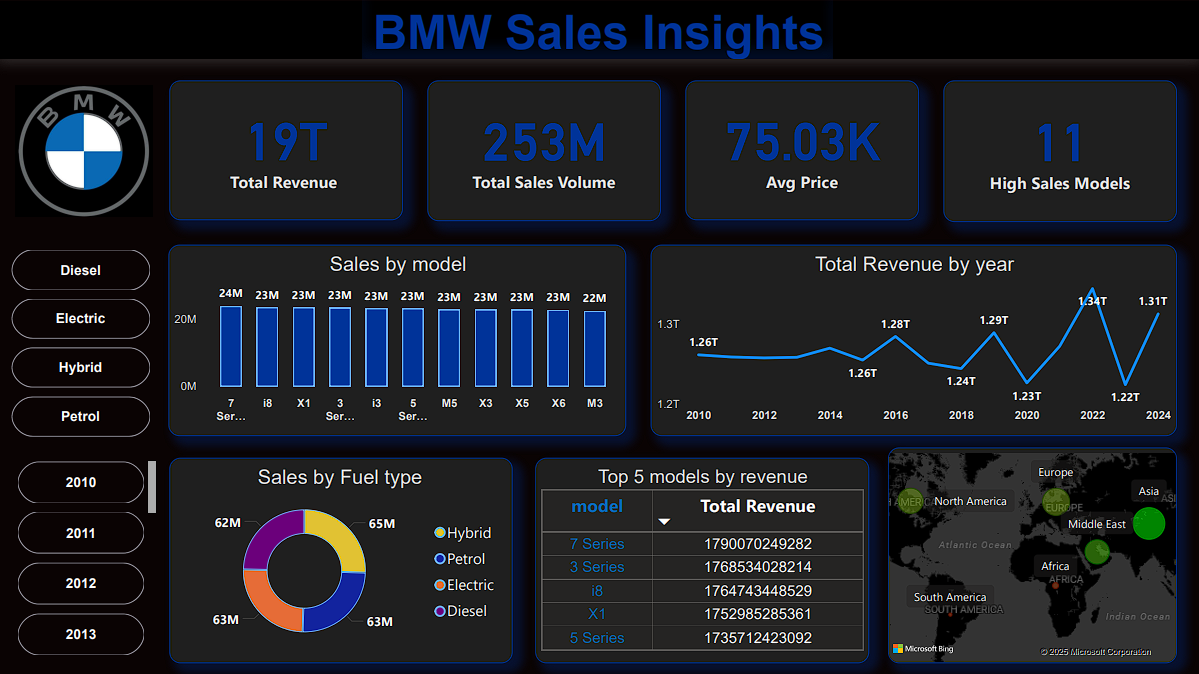

The dashboard page shown, as its layout file describes it:
{"tool":"powerbi","page":{"name":"Overview","canvas":[1280,720],"ordinal":0},"visuals":[{"type":"card","fields":{"Values":["BMW_Sales.Total Revenue"]},"box":[181.5,85.1,249,149],"z":0},{"type":"textbox","title":"BMW Sales Insights","box":[0,0,1280.3,61.7],"z":1000},{"type":"card","fields":{"Values":["BMW_Sales.Total Sales Volume"]},"box":[456.5,85.2,249.7,149.6],"z":2000},{"type":"card","fields":{"Values":["BMW_Sales.Avg Price"]},"box":[731.5,85.1,249,149],"z":3000},{"type":"card","fields":{"Values":["BMW_Sales.High Sales Models"]},"box":[1006.5,85.1,249.7,150.9],"z":4000},{"type":"clusteredColumnChart","title":"Sales by model","fields":{"Category":["BMW_Sales.model"],"Y":["BMW_Sales.Total Sales Volume"]},"box":[180.8,260.4,488.4,203.7],"z":5000},{"type":"lineChart","fields":{"Category":["BMW_Sales.year"],"Y":["BMW_Sales.Total Revenue"]},"box":[694.8,260.4,561.2,203.7],"z":6000},{"type":"donutChart","title":"Sales by Fuel type","fields":{"Y":["BMW_Sales.Total Sales Volume"],"Category":["BMW_Sales.fuel_type"]},"box":[182.1,487,365.6,218.6],"z":7000},{"type":"tableEx","title":"Top 5  models by revenue","fields":{"Values":["BMW_Sales.model","BMW_Sales.Total Revenue"]},"box":[572,487,356.2,218.6],"z":8000},{"type":"textbox","box":[388,0,500.5,62.1],"z":9000},{"type":"map","fields":{"Category":["BMW_Sales.region"],"Size":["BMW_Sales.Total Sales Volume"]},"box":[948.4,476.2,307.6,229.3],"z":10000},{"type":"advancedSlicerVisual","fields":{"Values":["BMW_Sales.fuel_type"]},"box":[12.1,264.4,151.1,203.7],"z":11000},{"type":"advancedSlicerVisual","title":"Year ","fields":{"Values":["BMW_Sales.year"]},"box":[18.9,487,151.1,218.6],"z":12000},{"type":"image","box":[0,85,182,150],"z":12001}]}

Visuals, with their boxes in screenshot pixels (x1, y1, x2, y2), scaled from the page's 1280x720 canvas onto the 1199x674 screenshot:
card - BMW_Sales.Total Revenue: bbox(170, 80, 403, 219)
"BMW Sales Insights" textbox: bbox(0, 0, 1198, 58)
card - BMW_Sales.Total Sales Volume: bbox(428, 80, 662, 220)
card - BMW_Sales.Avg Price: bbox(685, 80, 918, 219)
card - BMW_Sales.High Sales Models: bbox(943, 80, 1177, 221)
"Sales by model" clusteredColumnChart: bbox(169, 244, 627, 434)
lineChart - BMW_Sales.year x BMW_Sales.Total Revenue: bbox(651, 244, 1177, 434)
"Sales by Fuel type" donutChart: bbox(171, 456, 513, 661)
"Top 5  models by revenue" tableEx: bbox(536, 456, 869, 661)
textbox: bbox(363, 0, 832, 58)
map - BMW_Sales.region x BMW_Sales.Total Sales Volume: bbox(888, 446, 1177, 660)
advancedSlicerVisual - BMW_Sales.fuel_type: bbox(11, 248, 153, 438)
"Year " advancedSlicerVisual: bbox(18, 456, 159, 661)
image: bbox(0, 80, 170, 220)
